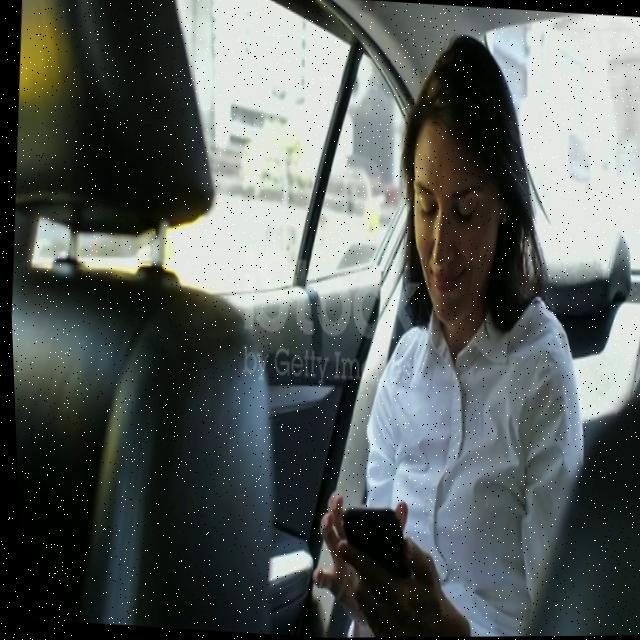PhoneCall: (330, 500, 420, 621)
